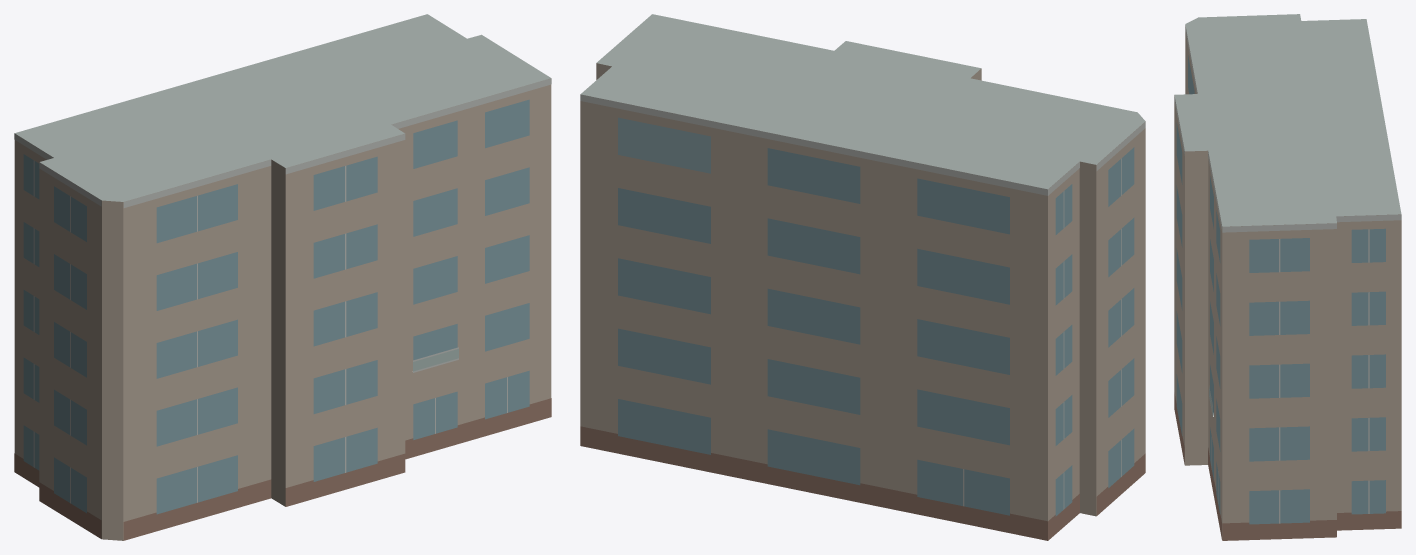
Rendered from survey-upis-32614247.glb.
3 renders of one model, left to right at view 1: azimuth 30°, elevation 25°; view 2: azimuth 150°, elevation 25°; view 3: azimuth 270°, elevation 25°, orthographic. The views are drawn at different scales.
Parts seen in each view (by area): view 1: survey-upis-32614247.tmp; view 2: survey-upis-32614247.tmp; view 3: survey-upis-32614247.tmp.
Part boxes in pixels (bbox=[...]): survey-upis-32614247.tmp: bbox=[14, 14, 551, 540]; survey-upis-32614247.tmp: bbox=[580, 14, 1145, 540]; survey-upis-32614247.tmp: bbox=[1174, 14, 1401, 540].
Bounding box in the file's own units: 18.88 × 13 × 8.53.
